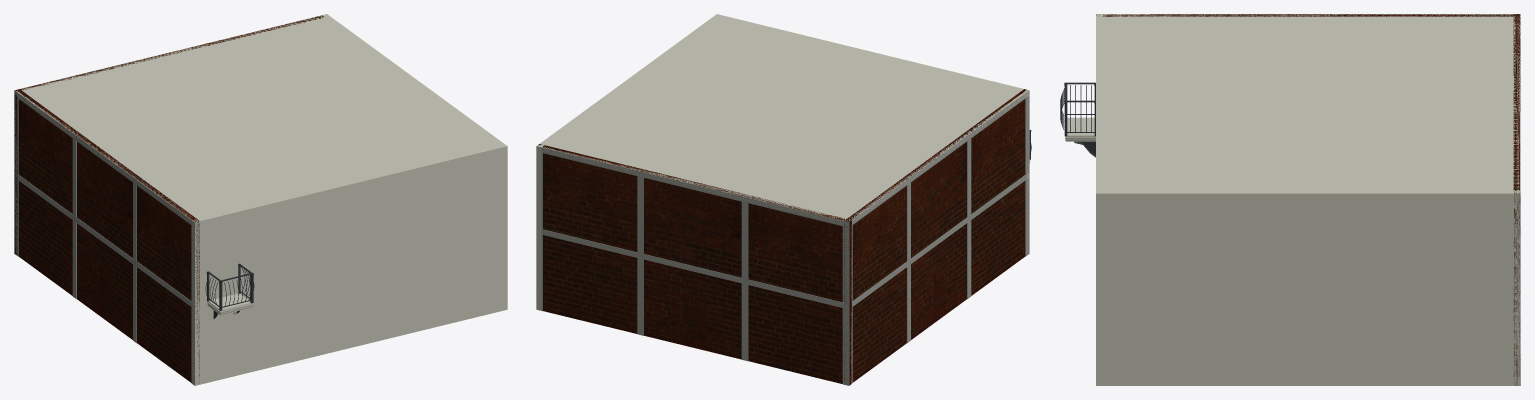
Rendered from building.glb.
The picture shows the model from 3 angles, left to right: view 1: azimuth 30°, elevation 25°; view 2: azimuth 150°, elevation 25°; view 3: azimuth 270°, elevation 25°; orthographic projection. The views are drawn at different scales.
Parts seen in each view (by area): view 1: roof/house:0/roof_slab#0001, house:0/edge0/z0/house:0/edge0/z0/wall_0_0, house:0/edge3/z0/house:0/edge3/z0/wall_0_0, house:0/edge2/z0/house:0/edge2/z0/wall_0_0, house:0/edge1/z0/house:0/edge1/z0/wall_0_0, house:0/edge3/z0/house:0/edge3/z0/beam_0_0, house:0/edge3/z0/house:0/edge3/z0/beam_1_0, balcony/sample/balcony_platform#0001; view 2: roof/house:0/roof_slab#0001, house:0/edge2/z0/house:0/edge2/z0/wall_0_0, house:0/edge3/z0/house:0/edge3/z0/wall_0_0, house:0/edge1/z0/house:0/edge1/z0/wall_0_0, house:0/edge2/z0/house:0/edge2/z0/beam_0_0, house:0/edge2/z0/house:0/edge2/z0/beam_1_0, house:0/edge0/z0/house:0/edge0/z0/wall_0_0, house:0/edge3/z0/house:0/edge3/z0/beam_0_0, house:0/edge3/z0/house:0/edge3/z0/beam_1_0, house:0/edge2/z0/house:0/edge2/z0/column_1_1, house:0/edge2/z0/house:0/edge2/z0/column_3_0, house:0/edge2/z0/house:0/edge2/z0/column_3_1 (+3 smaller); view 3: house:0/edge1/z0/house:0/edge1/z0/wall_0_0, roof/house:0/roof_slab#0001, house:0/edge0/z0/house:0/edge0/z0/wall_0_0, house:0/edge2/z0/house:0/edge2/z0/wall_0_0, house:0/edge3/z0/house:0/edge3/z0/wall_0_0, balcony/sample/balcony_platform#0001.
Boxes of the visible parts, bbox=[...] form: roof/house:0/roof_slab#0001: bbox=[14, 14, 507, 225]; house:0/edge0/z0/house:0/edge0/z0/wall_0_0: bbox=[192, 144, 507, 385]; house:0/edge3/z0/house:0/edge3/z0/wall_0_0: bbox=[17, 89, 199, 382]; house:0/edge2/z0/house:0/edge2/z0/wall_0_0: bbox=[14, 15, 323, 254]; house:0/edge1/z0/house:0/edge1/z0/wall_0_0: bbox=[322, 14, 507, 310]; house:0/edge3/z0/house:0/edge3/z0/beam_0_0: bbox=[14, 172, 195, 309]; house:0/edge3/z0/house:0/edge3/z0/beam_1_0: bbox=[14, 90, 194, 227]; balcony/sample/balcony_platform#0001: bbox=[208, 293, 251, 311]; roof/house:0/roof_slab#0001: bbox=[540, 15, 1029, 225]; house:0/edge2/z0/house:0/edge2/z0/wall_0_0: bbox=[538, 144, 851, 385]; house:0/edge3/z0/house:0/edge3/z0/wall_0_0: bbox=[844, 89, 1026, 384]; house:0/edge1/z0/house:0/edge1/z0/wall_0_0: bbox=[536, 14, 721, 310]; house:0/edge2/z0/house:0/edge2/z0/beam_0_0: bbox=[541, 229, 849, 309]; house:0/edge2/z0/house:0/edge2/z0/beam_1_0: bbox=[537, 146, 849, 227]; house:0/edge0/z0/house:0/edge0/z0/wall_0_0: bbox=[714, 14, 1029, 253]; house:0/edge3/z0/house:0/edge3/z0/beam_0_0: bbox=[851, 173, 1028, 307]; house:0/edge3/z0/house:0/edge3/z0/beam_1_0: bbox=[852, 90, 1029, 225]; house:0/edge2/z0/house:0/edge2/z0/column_1_1: bbox=[842, 226, 849, 303]; house:0/edge2/z0/house:0/edge2/z0/column_3_0: bbox=[741, 202, 748, 279]; house:0/edge2/z0/house:0/edge2/z0/column_3_1: bbox=[741, 283, 748, 361]; house:0/edge1/z0/house:0/edge1/z0/wall_0_0: bbox=[1096, 190, 1520, 385]; roof/house:0/roof_slab#0001: bbox=[1096, 14, 1520, 197]; house:0/edge0/z0/house:0/edge0/z0/wall_0_0: bbox=[1096, 14, 1102, 385]; house:0/edge2/z0/house:0/edge2/z0/wall_0_0: bbox=[1513, 14, 1520, 385]; house:0/edge3/z0/house:0/edge3/z0/wall_0_0: bbox=[1096, 14, 1514, 16]; balcony/sample/balcony_platform#0001: bbox=[1066, 117, 1095, 136].
Size of the model in its own units: 12 by 6 by 13.01.
Materials: 4 (1 with a texture image).
